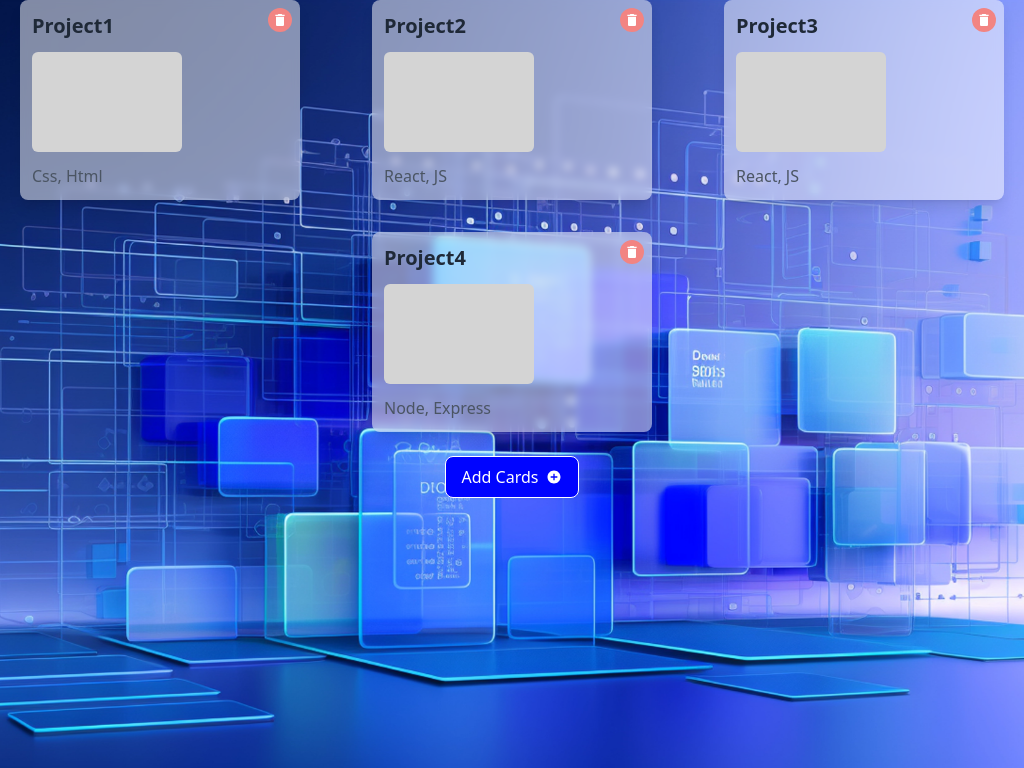
Test case: MainContent Component › Successfully hides the CardForm component when Cancel button is clicked
Click the button "Add Cards" at (512, 477), box [444, 456, 580, 498]
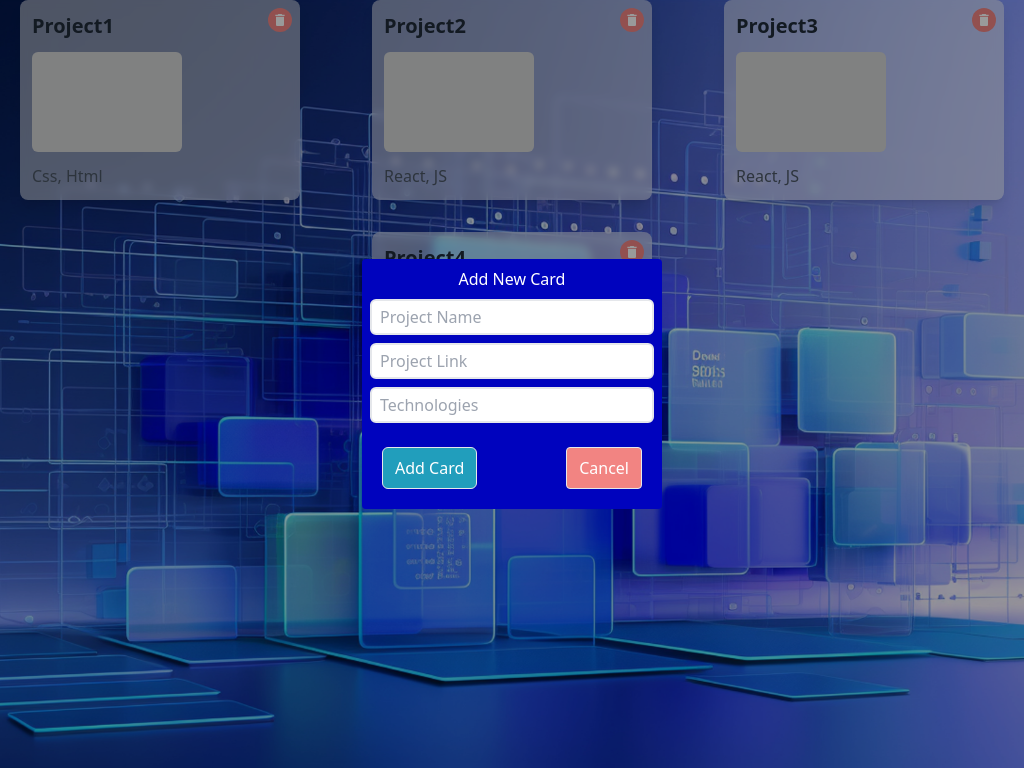
expect the field with placeholder "Project Name" is shown: met, box [370, 299, 654, 335]
expect the field with placeholder "Project Link" is shown: met, box [370, 343, 654, 379]
expect the field with placeholder "Technologies" is shown: met, box [370, 387, 654, 423]
Click the button "Cancel" at (604, 468), box [566, 447, 642, 489]
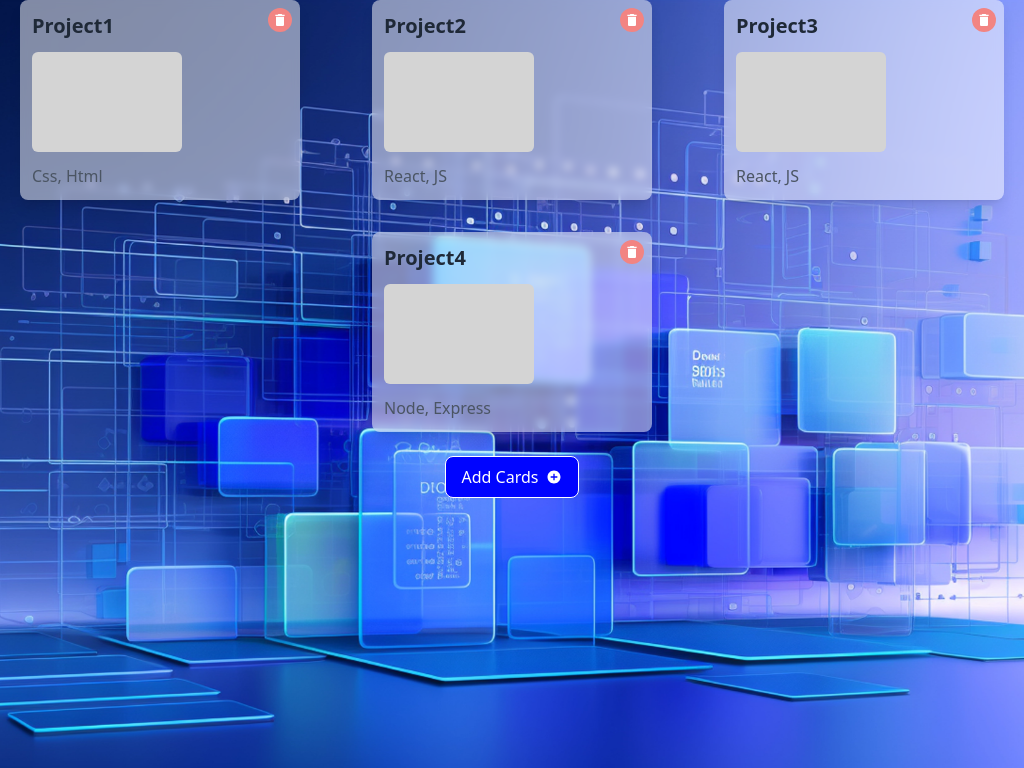
expect the field with placeholder "Project Name" is not shown: met
expect the field with placeholder "Technologies" is gone: met
